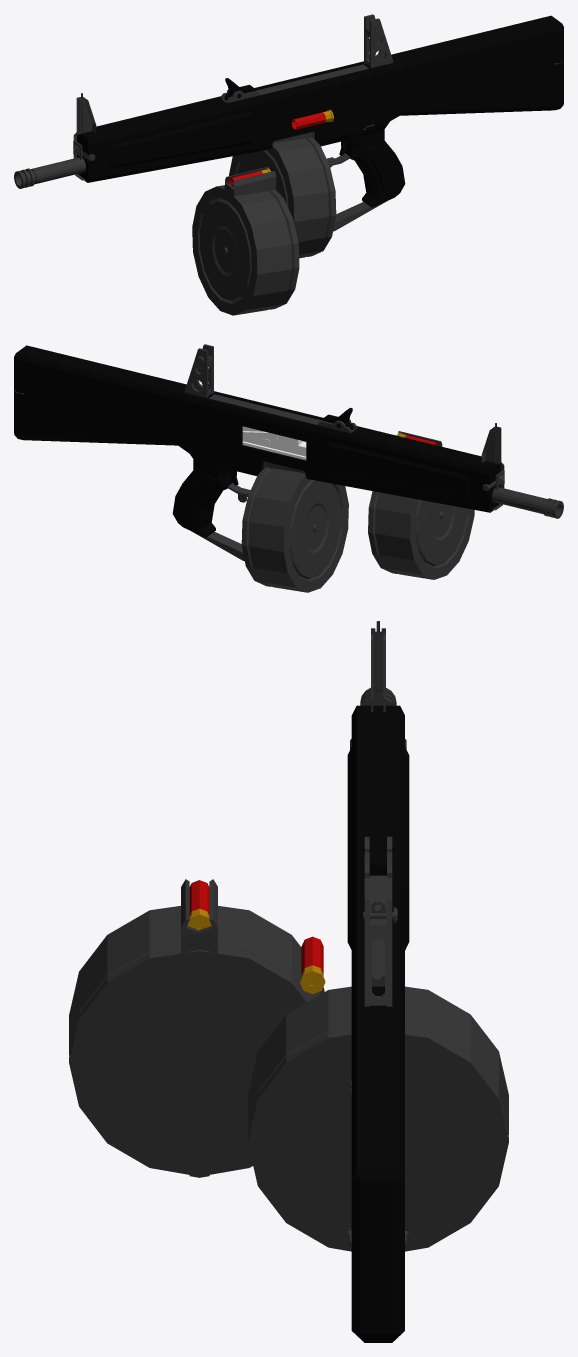
File: judge.glb
The picture shows the model from 3 angles, top to bottom: view 1: azimuth 30°, elevation 25°; view 2: azimuth 150°, elevation 25°; view 3: azimuth 270°, elevation 25°; orthographic projection. The views are drawn at different scales.
Visible parts, largest first — view 1: Cube.010_2, Cylinder.004_5, Cylinder.003_3, Cylinder_1, Cylinder.002_4; view 2: Cube.010_2, Cylinder.003_3, Cylinder.004_5, Cube.008_0, Cylinder_1; view 3: Cylinder.004_5, Cylinder.003_3, Cube.010_2, Cylinder_1, Cylinder.002_4.
Boxes of the visible parts, x1=… form: Cube.010_2: x1=14, y1=14, x2=563, y2=231; Cylinder.004_5: x1=192, y1=166, x2=299, y2=315; Cylinder.003_3: x1=229, y1=132, x2=336, y2=258; Cylinder_1: x1=220, y1=64, x2=368, y2=103; Cylinder.002_4: x1=291, y1=110, x2=333, y2=129; Cube.010_2: x1=14, y1=344, x2=563, y2=561; Cylinder.003_3: x1=241, y1=461, x2=348, y2=592; Cylinder.004_5: x1=368, y1=431, x2=474, y2=579; Cube.008_0: x1=242, y1=426, x2=306, y2=460; Cylinder_1: x1=209, y1=394, x2=357, y2=432; Cylinder.004_5: x1=69, y1=879, x2=324, y2=1177; Cylinder.003_3: x1=248, y1=986, x2=508, y2=1251; Cube.010_2: x1=347, y1=621, x2=409, y2=1342; Cylinder_1: x1=363, y1=808, x2=393, y2=978; Cylinder.002_4: x1=299, y1=936, x2=325, y2=994.
Bounding box in the file's own units: 11.18 × 4.27 × 3.94.
